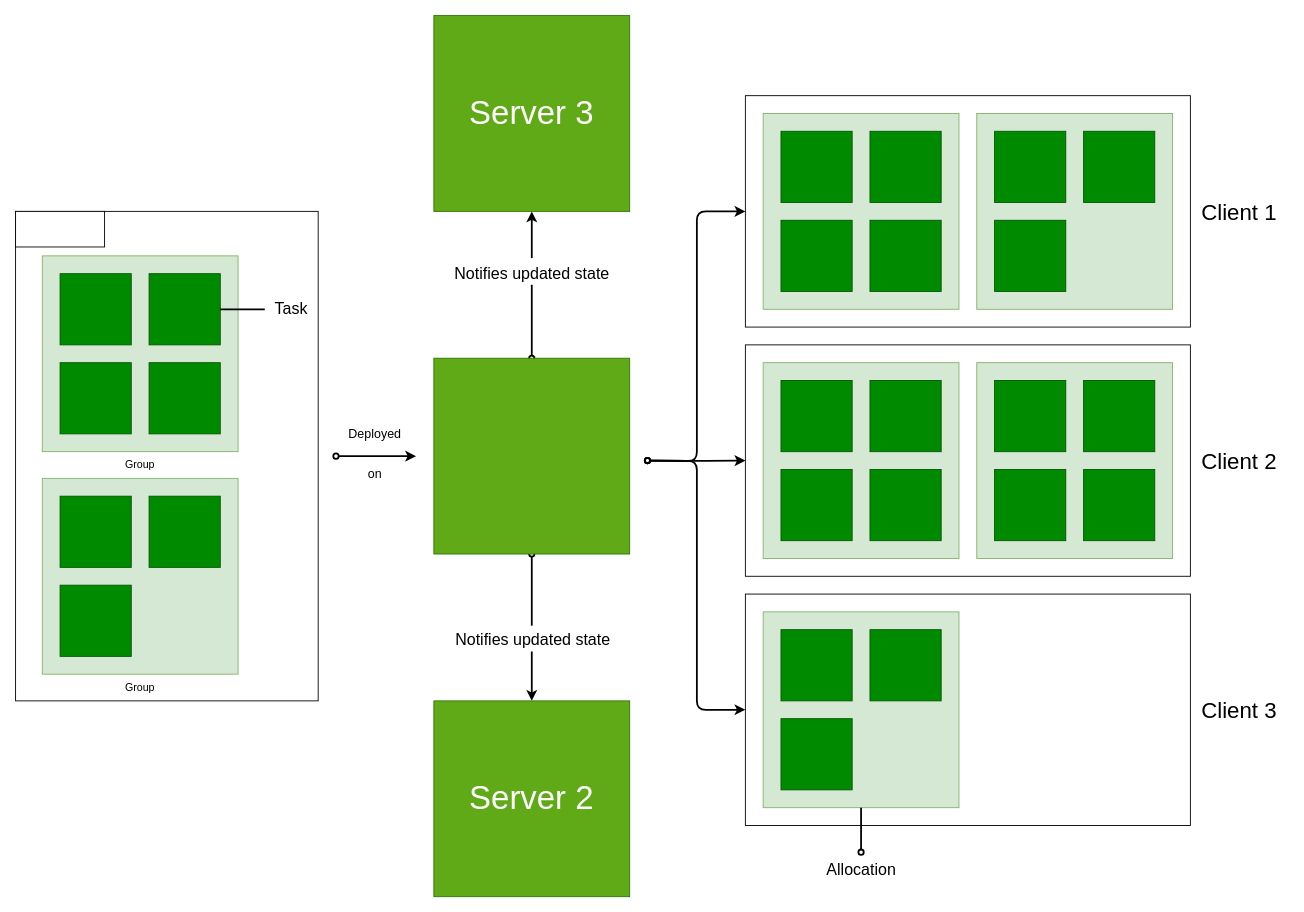
The diagram is 1304 pixels wide and 912 high, and some of its shapes have lost their labels. The centre of each missing label's shape, as x and y in pixels:
"JobSpec" belongs at point 60,228.
"Server 1" belongs at point 531,455.
